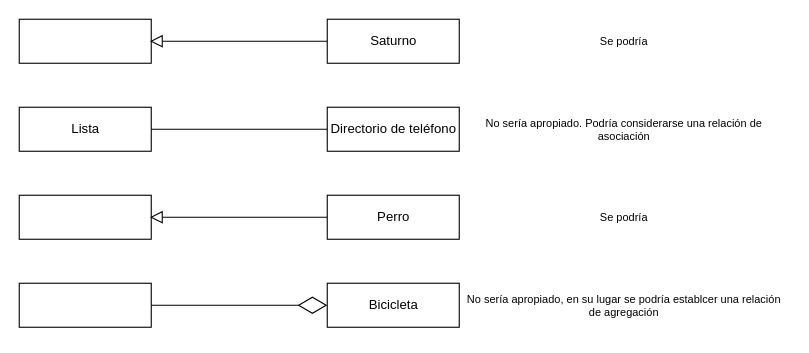
This 809x353 diagram has some shape labels left out. Here are the shapes that lost their labels. From the top down, the centre of each, then its label:
At pixel 84 40: "Planeta".
At pixel 84 216: "Animal de compañía".
At pixel 84 304: "Rueda".
